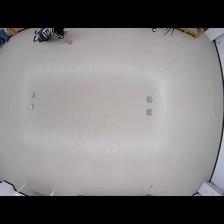fall: (32, 27, 73, 46)
